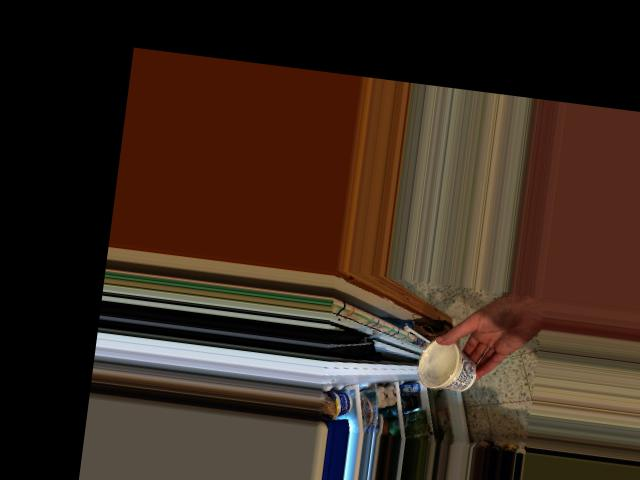cotage: (423, 336, 477, 390)
